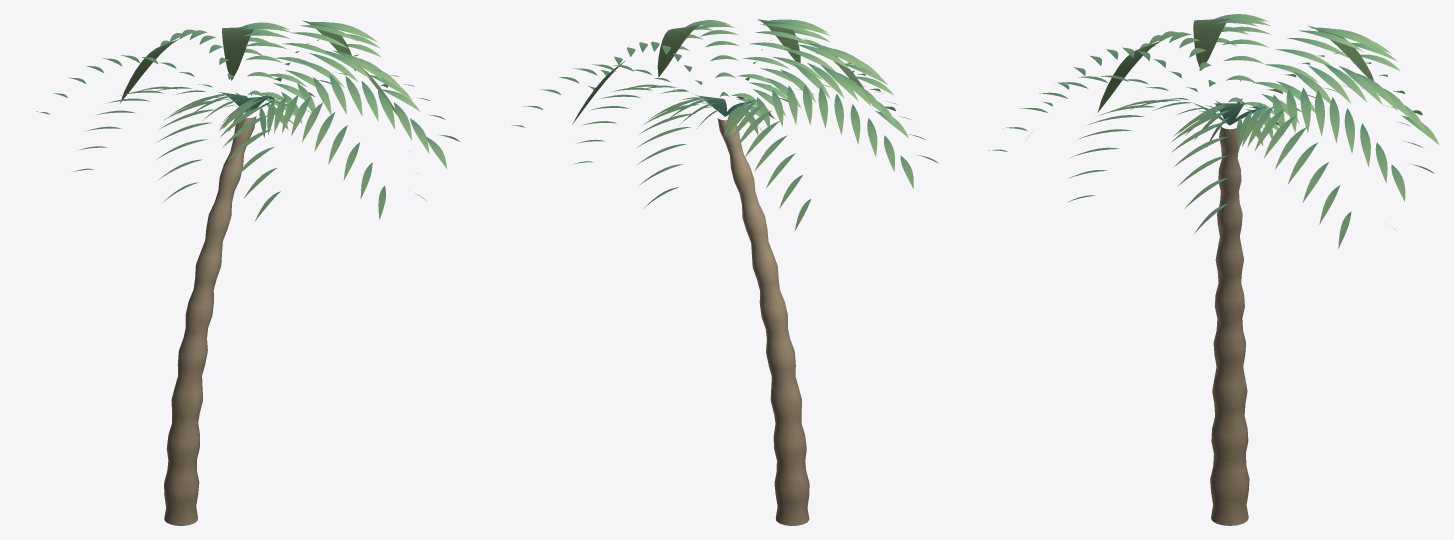
The model's file is palm.glb.
3 views of the same model, side by side, from view 1: azimuth 30°, elevation 25°; view 2: azimuth 150°, elevation 25°; view 3: azimuth 270°, elevation 25° (orthographic). The views are drawn at different scales.
Parts seen in each view (by area): view 1: world; view 2: world; view 3: world.
Boxes of the visible parts, left/top/right/bottom form: world: left=36, top=20, right=459, bottom=525; world: left=511, top=19, right=938, bottom=525; world: left=988, top=14, right=1439, bottom=525.
Size of the model in its own units: 3.06 by 3.37 by 2.99.
